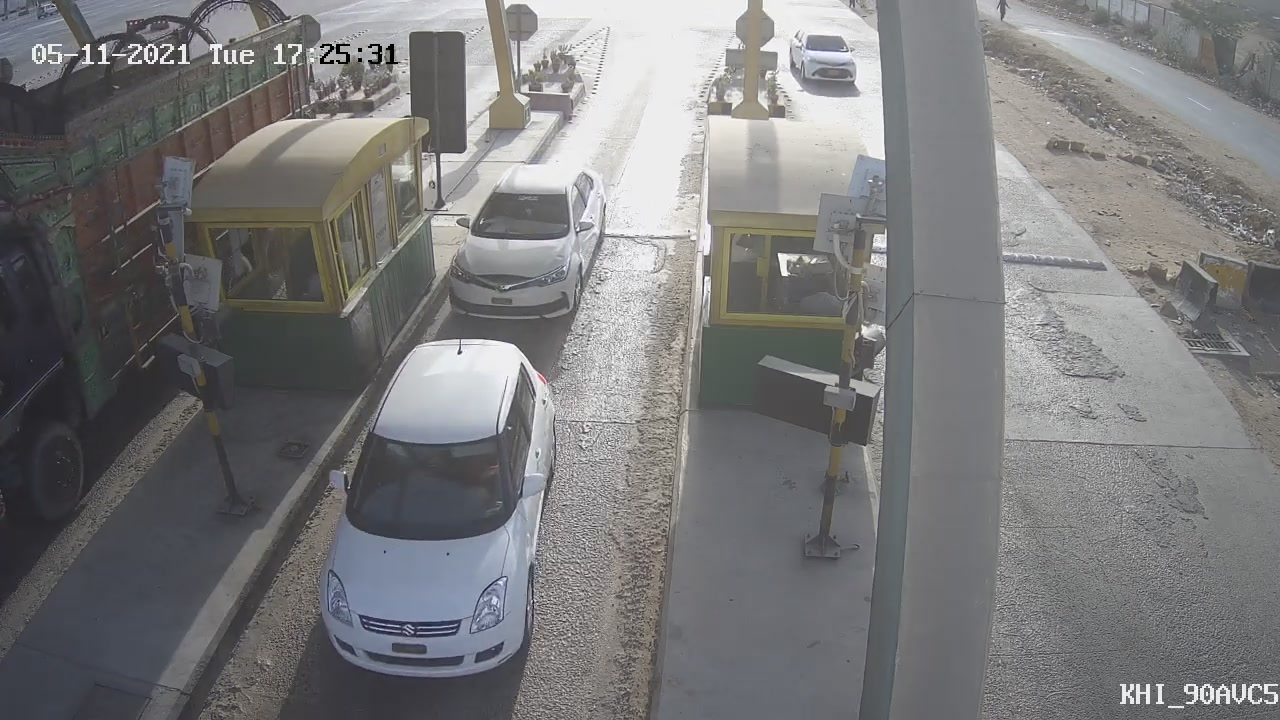F1: (426, 144, 625, 349)
